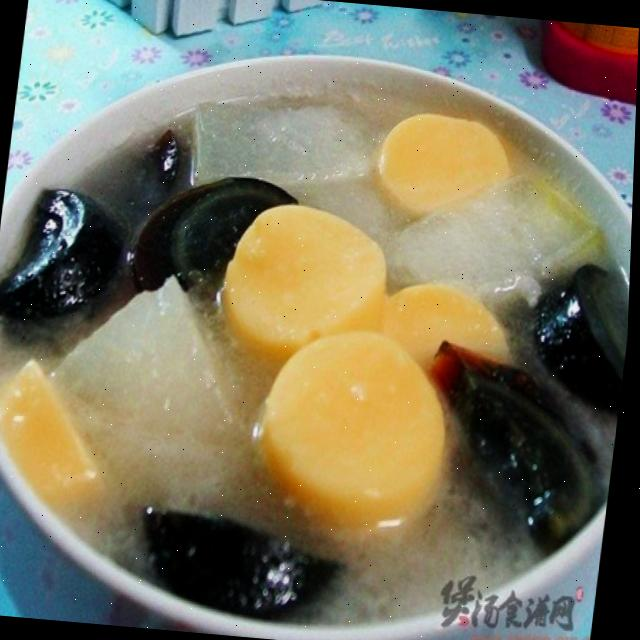汤锅炖物: (0, 19, 639, 640)
